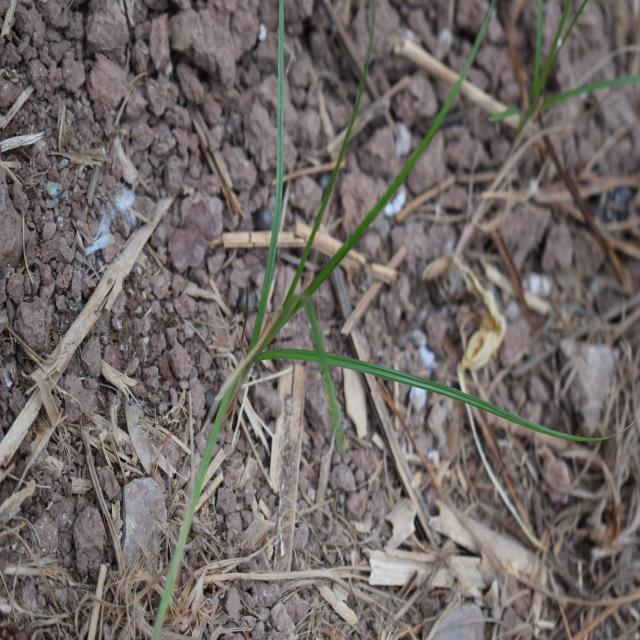sedge: (224, 27, 508, 499)
